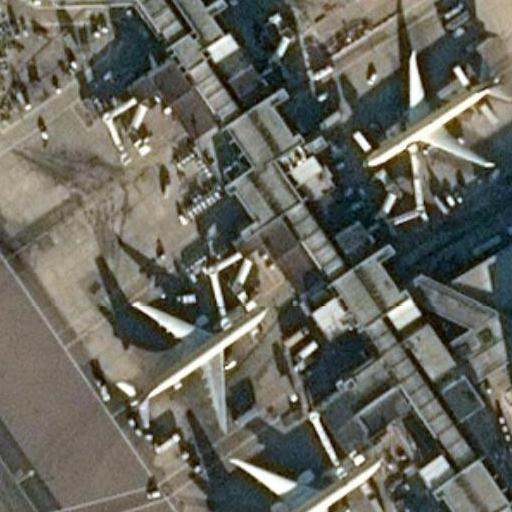Aircraft: (109, 291, 272, 434), (358, 43, 512, 173), (201, 448, 387, 512)
